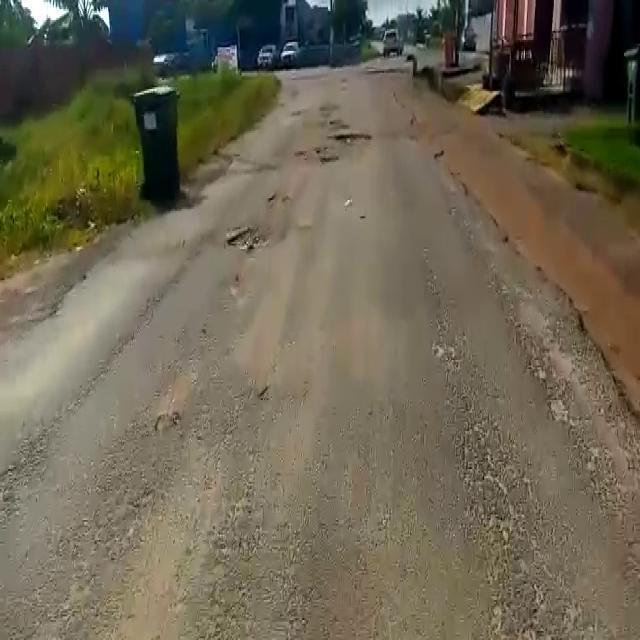pothole: (218, 225, 266, 253), (332, 129, 373, 143), (318, 154, 341, 167)
